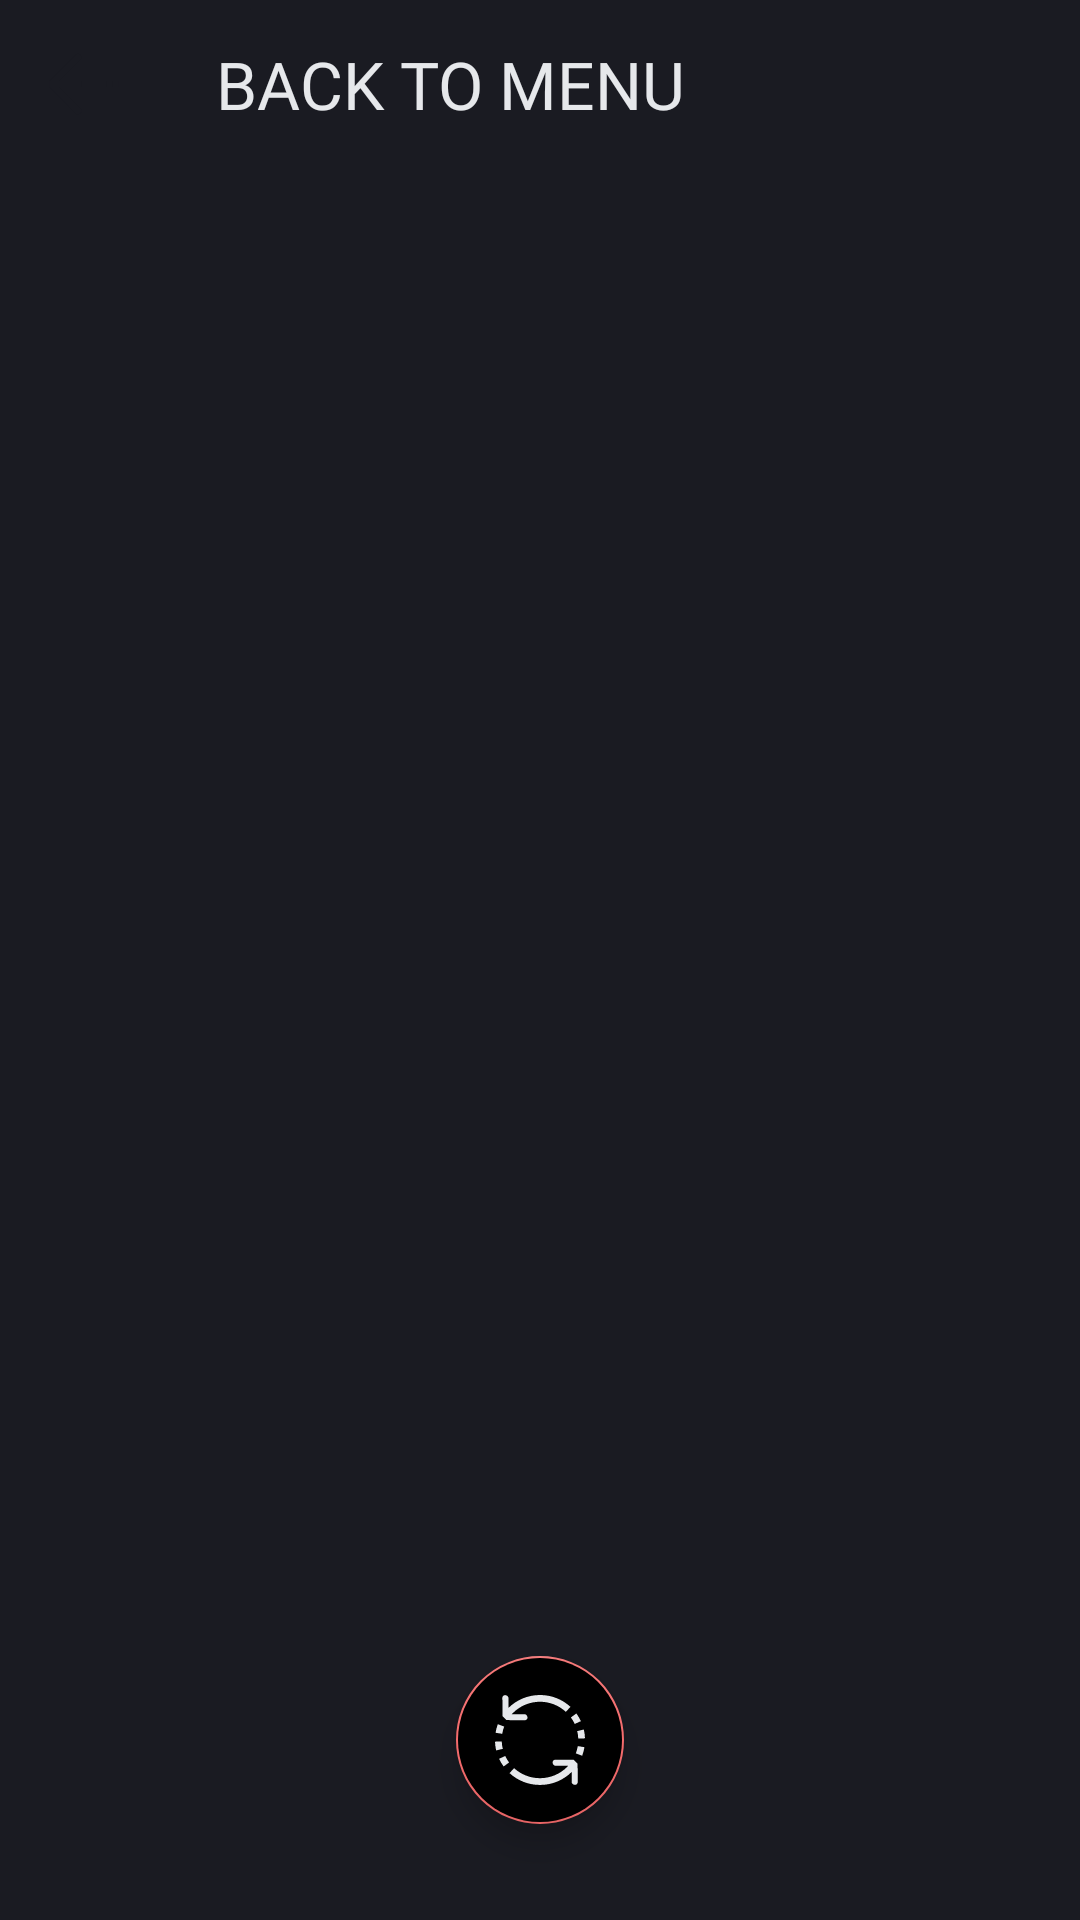

Locate icon controls on the screen. Image size 1080 x 1920, boxes as (x1=x1, y1=y1, x2=x2, y2=y2).
restart game: (x1=456, y1=1656, x2=624, y2=1824)
